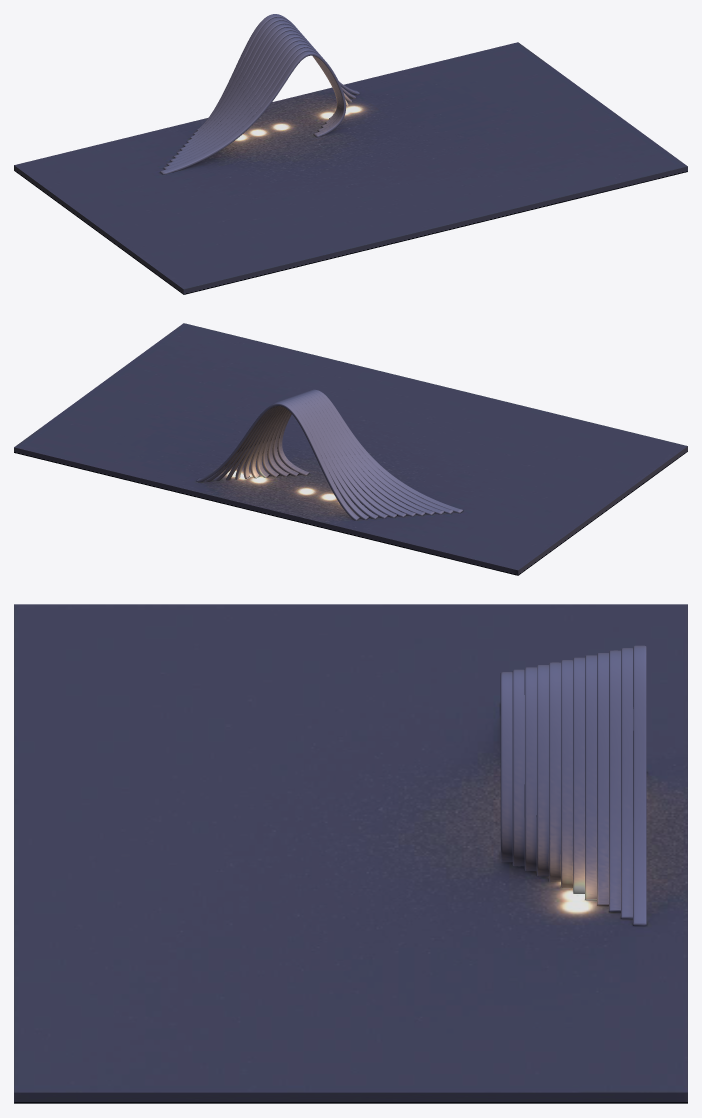
Rendered from ondai-ribbed-arch-baked-night.glb.
3 views of the same model, one above another, from view 1: azimuth 30°, elevation 25°; view 2: azimuth 150°, elevation 25°; view 3: azimuth 270°, elevation 25° (orthographic). The views are drawn at different scales.
Visible parts, largest first — view 1: Concrete terrace, Arch rib 12, Arch rib 11, Arch rib 10, Arch rib 9, Arch rib 8, Arch rib 7, Arch rib 6, Arch rib 5, Arch rib 4, Arch rib 1, Arch rib 2 (+1 smaller); view 2: Concrete terrace, Arch rib 1, Arch rib 12, Arch rib 11, Arch rib 10, Arch rib 9, Arch rib 8, Arch rib 7, Arch rib 6, Arch rib 5, Arch rib 4, Arch rib 3 (+1 smaller); view 3: Concrete terrace, Arch rib 1, Arch rib 2, Arch rib 3, Arch rib 4, Arch rib 5, Arch rib 6, Arch rib 7, Arch rib 8, Arch rib 9, Arch rib 10, Arch rib 11 (+1 smaller).
Boxes of the visible parts, x1=… form: Concrete terrace: x1=14, y1=42, x2=687, y2=294; Arch rib 12: x1=160, y1=51, x2=345, y2=174; Arch rib 11: x1=163, y1=47, x2=340, y2=169; Arch rib 10: x1=166, y1=44, x2=339, y2=165; Arch rib 9: x1=170, y1=41, x2=338, y2=161; Arch rib 8: x1=173, y1=37, x2=337, y2=158; Arch rib 7: x1=176, y1=34, x2=336, y2=154; Arch rib 6: x1=180, y1=31, x2=331, y2=150; Arch rib 5: x1=183, y1=27, x2=329, y2=146; Arch rib 4: x1=186, y1=24, x2=348, y2=142; Arch rib 1: x1=196, y1=14, x2=359, y2=130; Arch rib 2: x1=193, y1=17, x2=355, y2=134; Concrete terrace: x1=14, y1=323, x2=687, y2=575; Arch rib 1: x1=196, y1=401, x2=359, y2=520; Arch rib 12: x1=277, y1=389, x2=463, y2=513; Arch rib 11: x1=272, y1=390, x2=453, y2=513; Arch rib 10: x1=267, y1=392, x2=443, y2=514; Arch rib 9: x1=262, y1=393, x2=434, y2=515; Arch rib 8: x1=256, y1=394, x2=425, y2=515; Arch rib 7: x1=250, y1=395, x2=415, y2=516; Arch rib 6: x1=243, y1=396, x2=406, y2=517; Arch rib 5: x1=235, y1=397, x2=396, y2=517; Arch rib 4: x1=226, y1=398, x2=387, y2=518; Arch rib 3: x1=216, y1=399, x2=378, y2=519; Concrete terrace: x1=14, y1=604, x2=687, y2=1103; Arch rib 1: x1=633, y1=645, x2=646, y2=925; Arch rib 2: x1=621, y1=648, x2=633, y2=918; Arch rib 3: x1=609, y1=650, x2=620, y2=912; Arch rib 4: x1=597, y1=653, x2=608, y2=905; Arch rib 5: x1=585, y1=655, x2=596, y2=900; Arch rib 6: x1=573, y1=657, x2=584, y2=893; Arch rib 7: x1=561, y1=660, x2=572, y2=887; Arch rib 8: x1=549, y1=662, x2=560, y2=882; Arch rib 9: x1=536, y1=665, x2=548, y2=876; Arch rib 10: x1=524, y1=667, x2=536, y2=871; Arch rib 11: x1=512, y1=669, x2=524, y2=866.
Size of the model in its own units: 48 by 9.45 by 28.
Materials: 2 (1 with a texture image).
